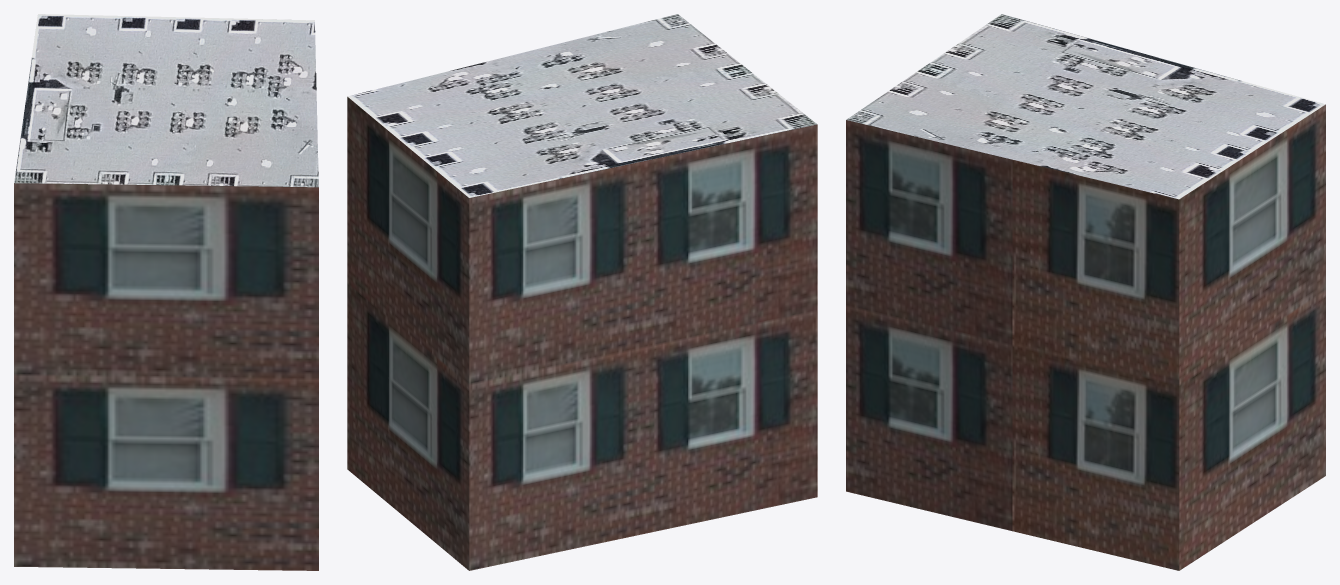
Rendered from ResTex__4871.fbx.
The picture shows the model from 3 angles, left to right: view 1: azimuth 30°, elevation 25°; view 2: azimuth 150°, elevation 25°; view 3: azimuth 270°, elevation 25°; orthographic projection. The views are drawn at different scales.
Parts seen in each view (by area): view 1: CityEngineMaterial_14_m, CityEngineMaterial_8_m; view 2: CityEngineMaterial_14_m, CityEngineMaterial_8_m; view 3: CityEngineMaterial_14_m, CityEngineMaterial_8_m.
Part boxes in pixels (x1,y1,x2,y2): CityEngineMaterial_14_m: (14, 183, 318, 570); CityEngineMaterial_8_m: (14, 14, 318, 187); CityEngineMaterial_14_m: (347, 97, 817, 570); CityEngineMaterial_8_m: (347, 14, 817, 197); CityEngineMaterial_14_m: (846, 104, 1325, 570); CityEngineMaterial_8_m: (846, 14, 1325, 199).
Bounding box in the file's own units: 6.42 × 6 × 7.02.
2 materials, 2 textured.
